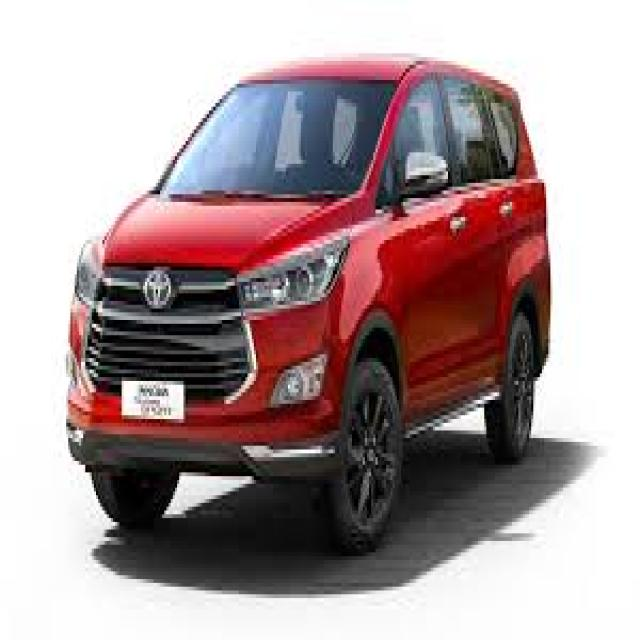light_vehicle: (66, 55, 552, 548)
